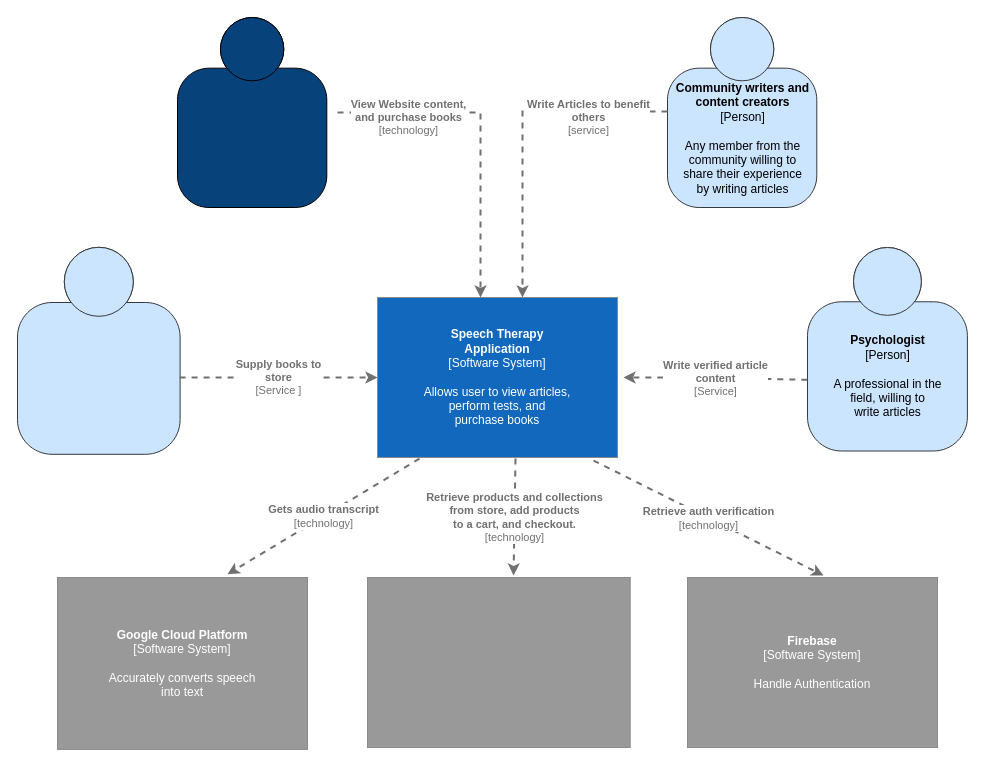
This 985x767 diagram has some shape labels left out. Here are the shapes that lost their labels. From the top down, the box of each, then its label:
(176, 16, 327, 208): User [Person] Individual visiting the site
(16, 246, 180, 454): Books supplier [Person] Individual or business who supply books to sell
(366, 576, 630, 748): Shopify [Software System] Allows to build E-commerce into application
